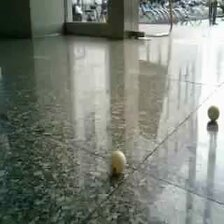w: (110, 150, 125, 172), (207, 105, 220, 122)
